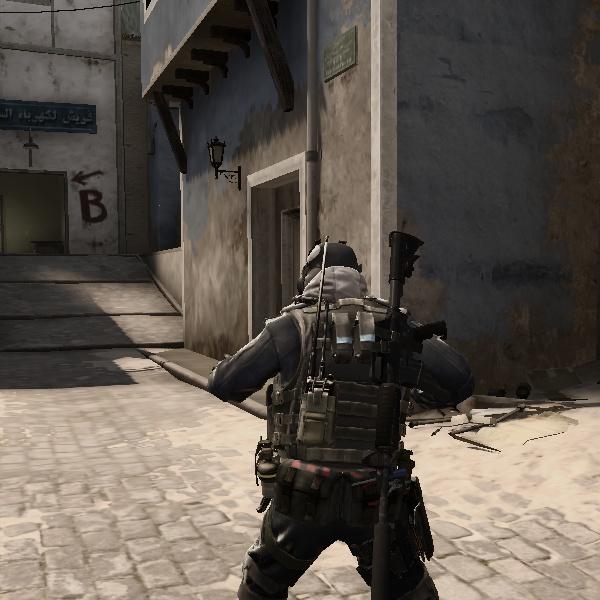ct_body: (203, 231, 476, 595)
ct_head: (296, 234, 372, 314)
